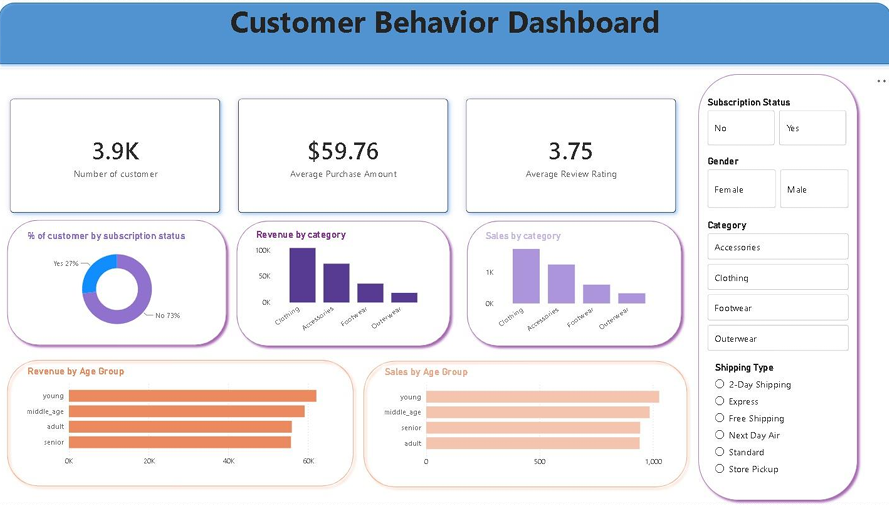

The page's visual inventory and layout, read from the dashboard file:
{"tool":"powerbi","page":{"name":"Page 1","canvas":[1600,900],"ordinal":0},"visuals":[{"type":"cardVisual","fields":{"Data":["customer.Number of customer","customer.Average Purchase Amount","customer.Average Review Rating"]},"box":[0,150,1240,260],"z":0},{"type":"shape","box":[0,0,1600,126.7],"z":1000},{"type":"textbox","box":[326.7,0,946.7,126.7],"z":2000},{"type":"shape","box":[15,385,406.7,240],"z":3000},{"type":"donutChart","title":"% of customer by subscription status","fields":{"Category":["customer.subscription_status"],"Y":["CountNonNull(customer.customer_id)"]},"box":[55,411.7,326.7,190],"z":4000},{"type":"shape","box":[421.7,386.7,396.7,240],"z":5000},{"type":"shape","box":[830,386.7,398.3,240],"z":6000},{"type":"clusteredColumnChart","title":"Revenue by category","fields":{"Y":["Sum(customer.purchase_amount)"],"Category":["customer.category"]},"box":[460,410,321.7,190],"z":7000},{"type":"clusteredColumnChart","title":"Sales by category","fields":{"Y":["Count(customer.customer_id)"],"Category":["customer.category"]},"box":[866.7,411.7,320,190],"z":8000},{"type":"shape","box":[1240,126.7,300,773.3],"z":9000},{"type":"advancedSlicerVisual","fields":{"Values":["customer.subscription_status"]},"box":[1260,175,256.7,91.7],"z":10000},{"type":"advancedSlicerVisual","fields":{"Values":["customer.gender"]},"box":[1260,280,260,98.3],"z":11000},{"type":"advancedSlicerVisual","fields":{"Values":["customer.category"]},"box":[1260,393.3,260,238.3],"z":12000},{"type":"listSlicer","fields":{"Values":["customer.shipping_type"]},"box":[1273.3,645,243.3,216.7],"z":13000},{"type":"shape","box":[15,633.3,631.7,241.7],"z":14000},{"type":"clusteredBarChart","title":"Revenue by Age Group","fields":{"Y":["Sum(customer.purchase_amount)"],"Category":["customer.age_group"]},"box":[55,651.7,531.7,188.3],"z":15000},{"type":"shape","box":[646.7,635,591.7,241.7],"z":16000},{"type":"clusteredBarChart","title":"Sales by Age Group","fields":{"Y":["Count(customer.customer_id)"],"Category":["customer.age_group"]},"box":[688.3,653.3,510,188.3],"z":17000}]}

Visuals, with their boxes in screenshot pixels (x1, y1, x2, y2), scaled from the page's 1600x900 canvas onto the 889x505 screenshot:
cardVisual - customer.Number of customer x customer.Average Purchase Amount: 0/84/689/230
shape: 0/0/888/71
textbox: 182/0/708/71
shape: 8/216/234/351
"% of customer by subscription status" donutChart: 31/231/212/338
shape: 234/217/455/352
shape: 461/217/682/352
"Revenue by category" clusteredColumnChart: 256/230/434/337
"Sales by category" clusteredColumnChart: 482/231/659/338
shape: 689/71/856/504
advancedSlicerVisual - customer.subscription_status: 700/98/843/150
advancedSlicerVisual - customer.gender: 700/157/845/212
advancedSlicerVisual - customer.category: 700/221/845/354
listSlicer - customer.shipping_type: 707/362/843/484
shape: 8/355/359/491
"Revenue by Age Group" clusteredBarChart: 31/366/326/471
shape: 359/356/688/492
"Sales by Age Group" clusteredBarChart: 382/367/666/472
